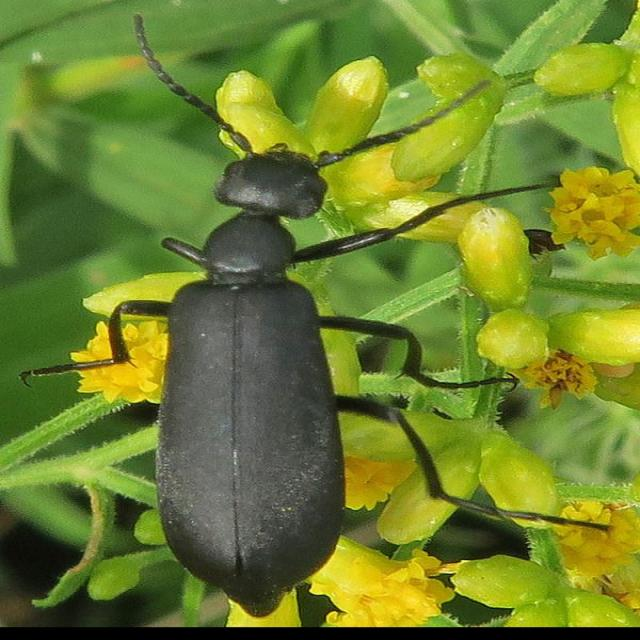BlisterBeetle-Adult-: (96, 7, 530, 620)
